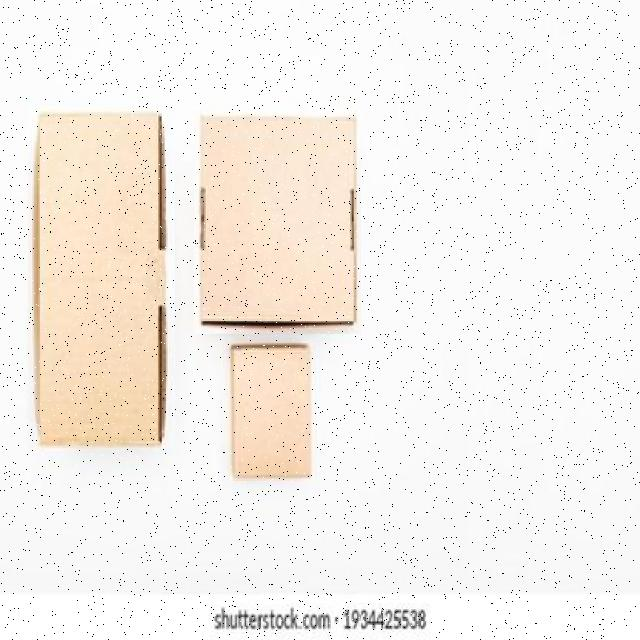normal: (28, 106, 175, 448), (194, 109, 361, 334)
